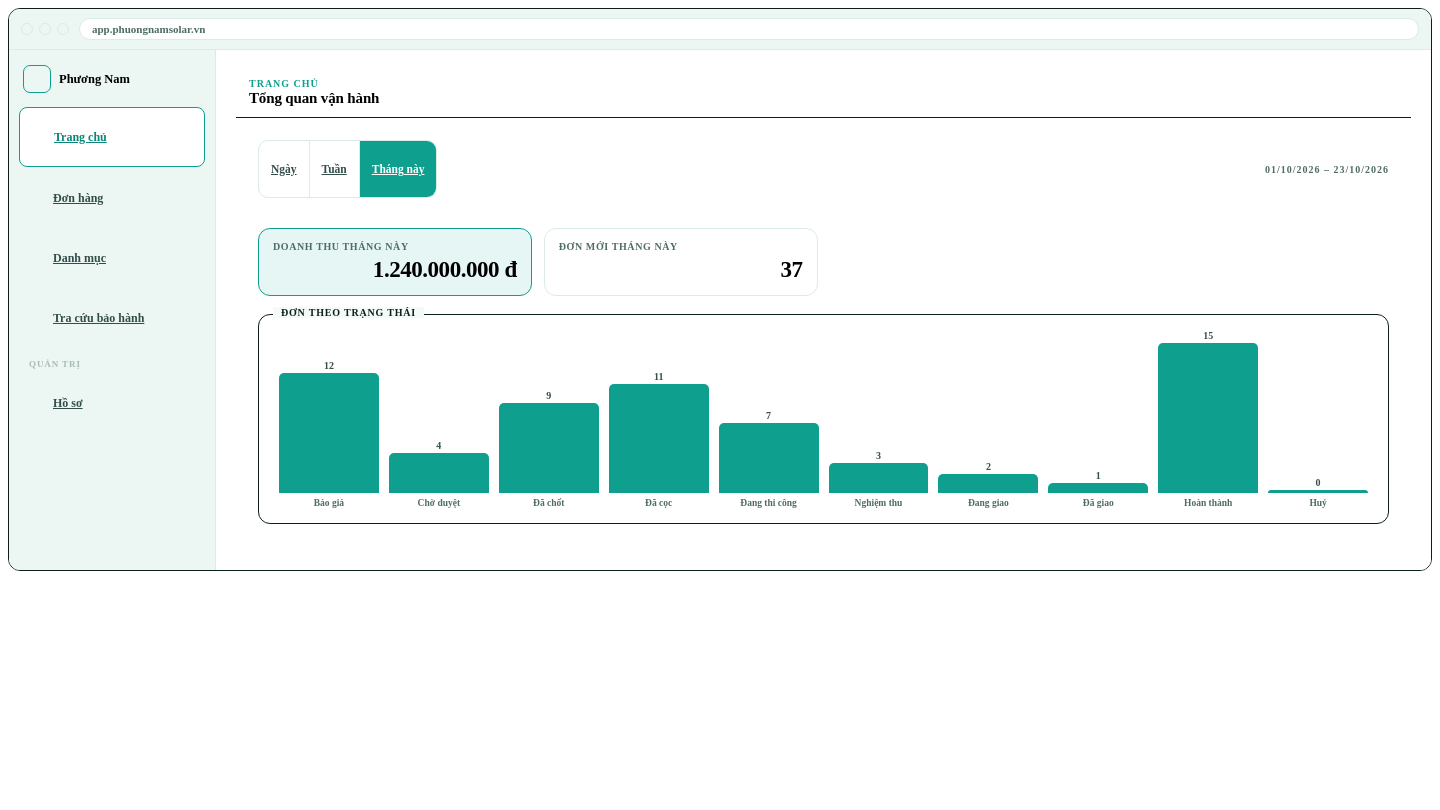
DashboardScreen › while a new period loads, the old figures are not shown under the new label
The width and height of the screenshot is (1440, 810).
Expected: the text "1.240.000.000 đ" is shown, [373,257,517,282]
Step 1. Click the link "Tuần" → [335, 169], box [310,141,360,197]
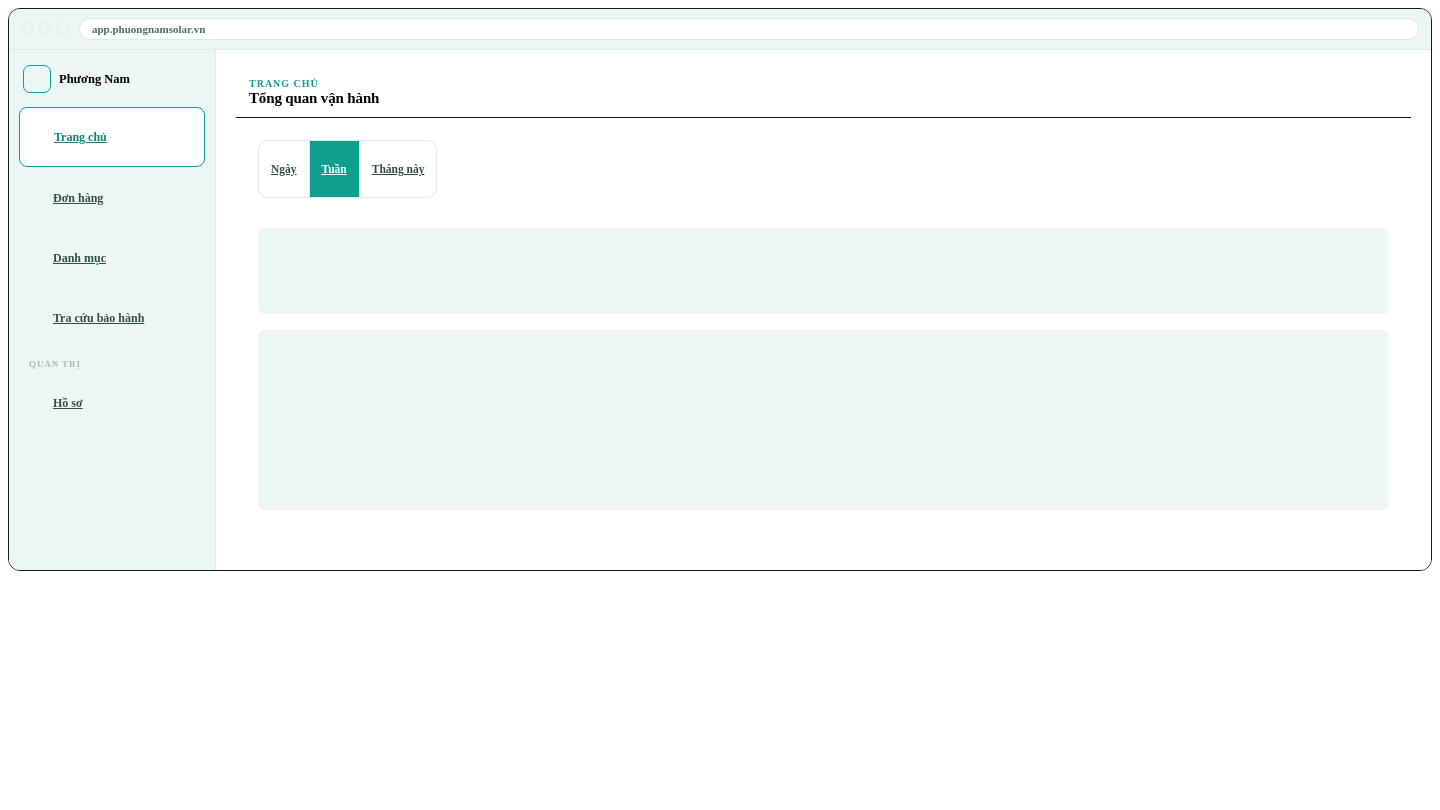
Now the text "1.240.000.000 đ" is gone
Now no elements with class "kpi" are shown
